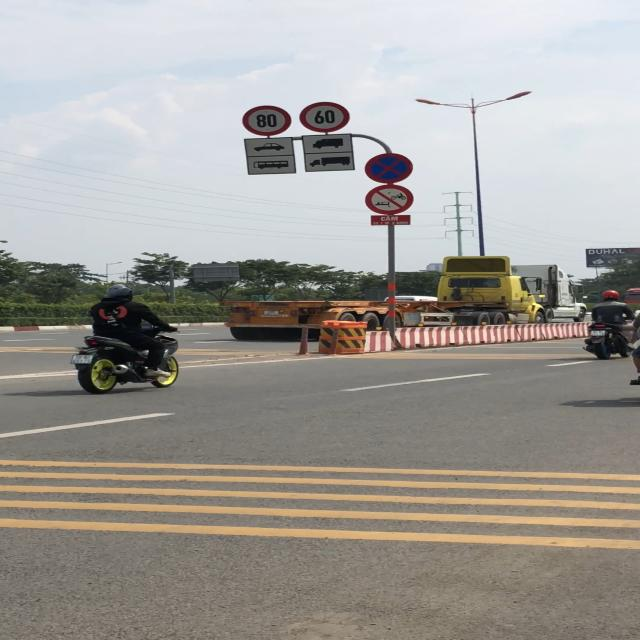Bien bao cam dung xe va do xe: (363, 152, 415, 183)
Bien bao toc do toi da cho phep: (298, 100, 355, 134), (242, 105, 293, 138)
